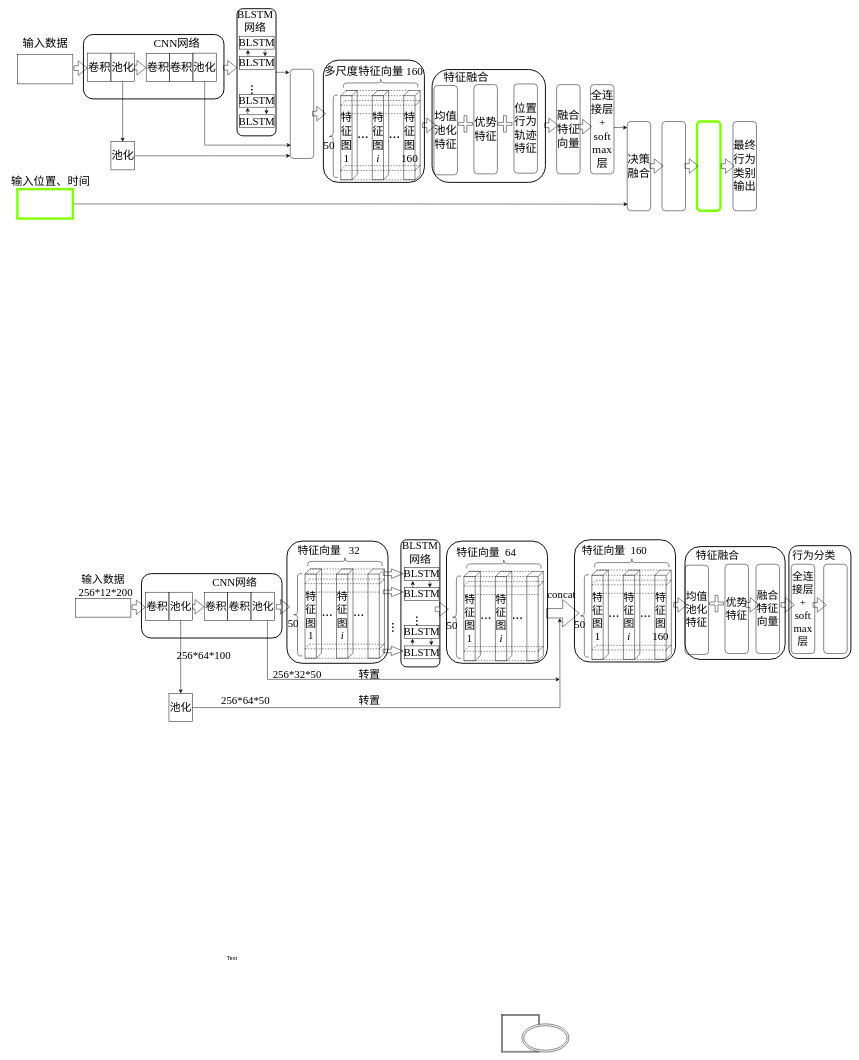
Some shapes in this 859 by 1060 pixel diagram are drawn without their labels. The shapes that lost their labels are listed below. From the top down, each one's box as (x1, y1, x2, y2) in pixels, then its label:
(17, 54, 73, 84): 传感器 数据
(290, 69, 314, 159): 多尺度特征结合
(662, 121, 685, 211): 行为 类别输出
(696, 120, 721, 212): 持续时间检验与修正
(16, 188, 74, 219): 行为概率 矩阵
(75, 598, 131, 617): 传感器数据
(368, 568, 384, 658): 特征图 32
(526, 571, 543, 661): 特征图 64
(823, 564, 847, 654): 当前行为 类别输出
